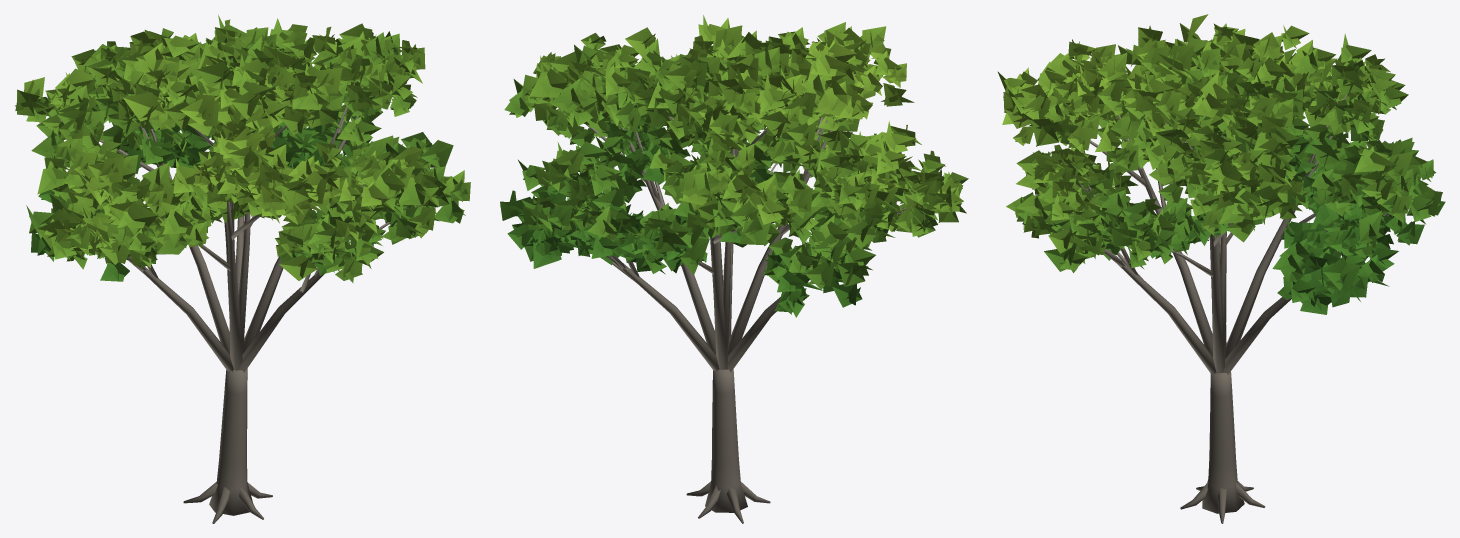
File: tree_keyaki.glb
The picture shows the model from 3 angles, left to right: view 1: azimuth 30°, elevation 25°; view 2: azimuth 150°, elevation 25°; view 3: azimuth 270°, elevation 25°; orthographic projection. The views are drawn at different scales.
Parts seen in each view (by area): view 1: tree_keyaki; view 2: tree_keyaki; view 3: tree_keyaki.
Part boxes in pixels (left/top/right/bottom): tree_keyaki: left=15, top=14, right=470, bottom=523; tree_keyaki: left=500, top=15, right=968, bottom=523; tree_keyaki: left=997, top=14, right=1445, bottom=523.
Bounding box in the file's own units: 10.86 × 11.87 × 10.54.
